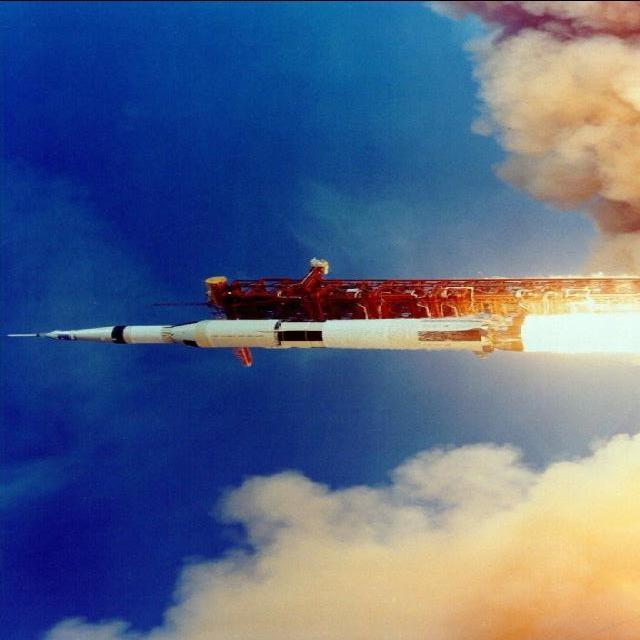Missile: (33, 304, 491, 366)
